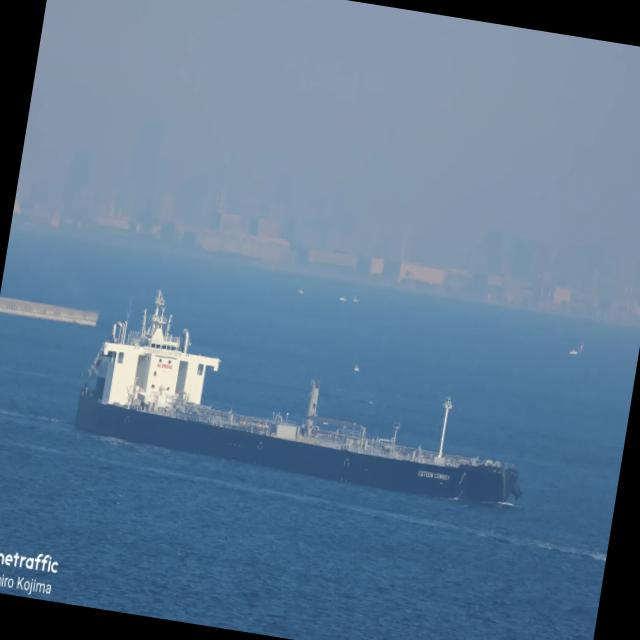Tanker: (76, 291, 521, 504)
